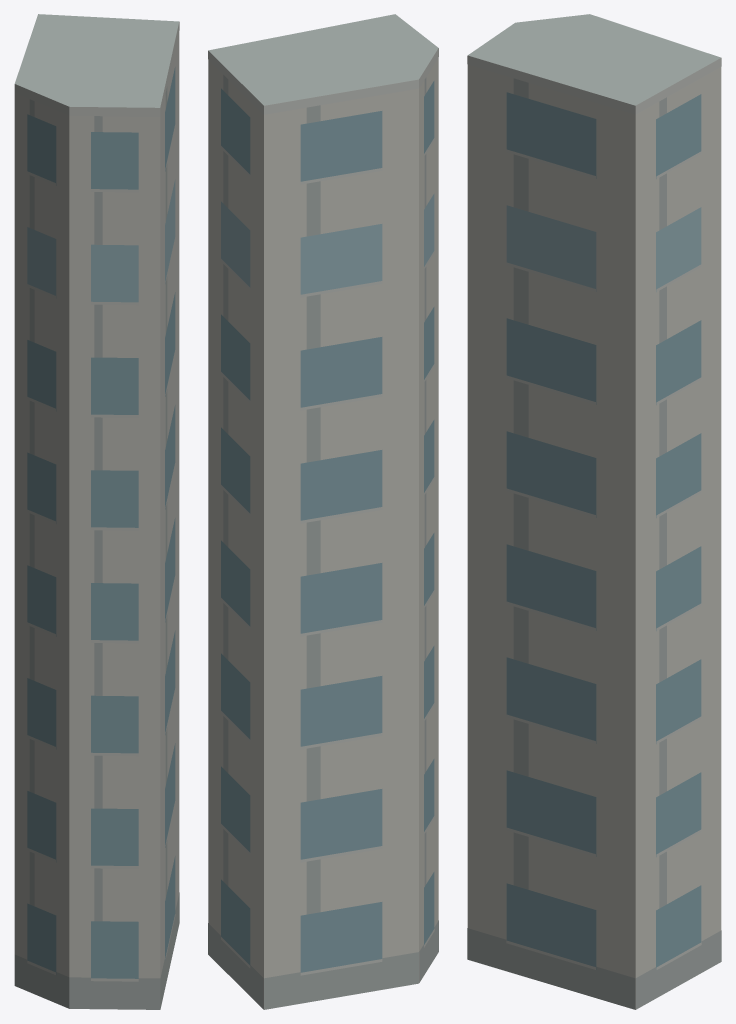
File: survey-upis-32879370.glb
The picture shows the model from 3 angles, left to right: view 1: azimuth 30°, elevation 25°; view 2: azimuth 150°, elevation 25°; view 3: azimuth 270°, elevation 25°; orthographic projection.
Visible parts, largest first — view 1: survey-upis-32879370.tmp; view 2: survey-upis-32879370.tmp; view 3: survey-upis-32879370.tmp.
Boxes of the visible parts, left/top/right/bottom form: survey-upis-32879370.tmp: left=14, top=14, right=179, bottom=1009; survey-upis-32879370.tmp: left=208, top=14, right=438, bottom=1009; survey-upis-32879370.tmp: left=467, top=14, right=721, bottom=1009.
Bounding box in the file's own units: 5.32 × 24.4 × 6.22.
